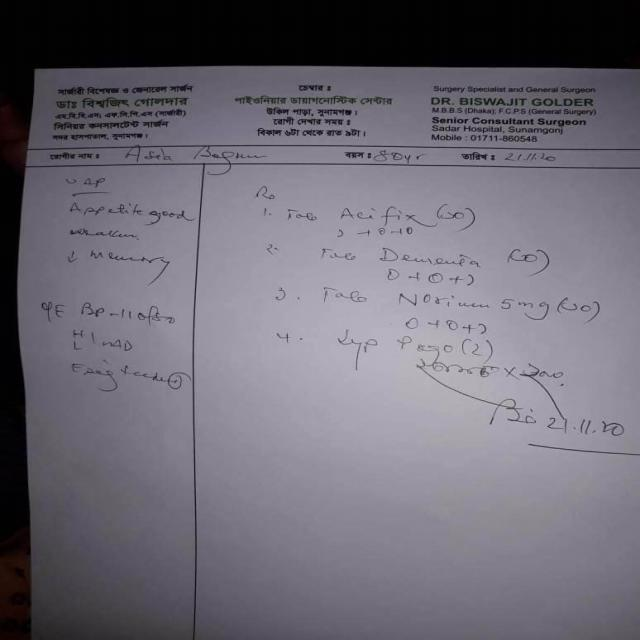Acifix: (333, 202, 429, 230)
Norium: (393, 289, 495, 313)
Pogo: (390, 332, 454, 358)
